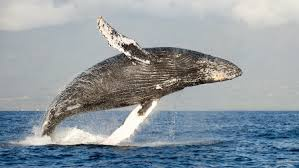humpback: (41, 50, 244, 136)
